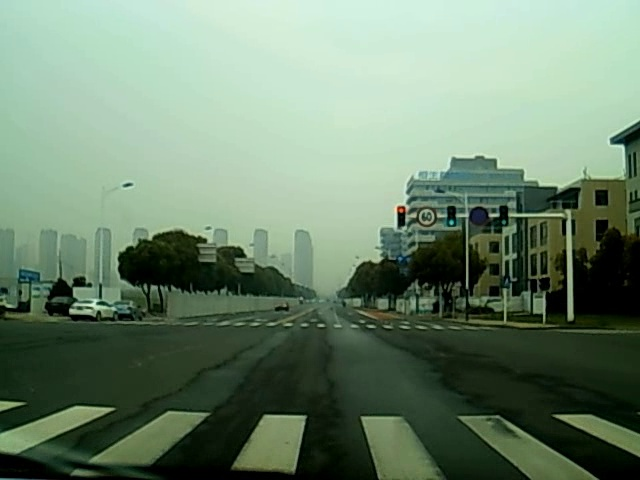Traffic_Light_go: (500, 207, 507, 229), (447, 208, 455, 227)
Traffic_Light_stop: (396, 207, 406, 227)
